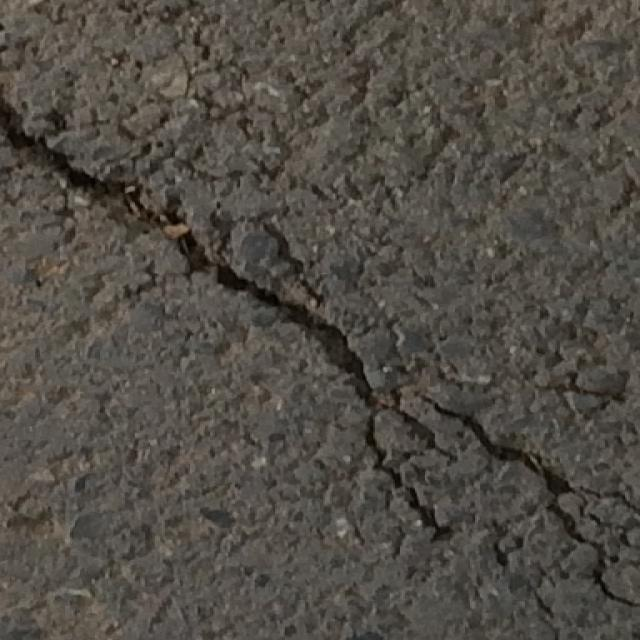crack: (4, 99, 638, 616)
